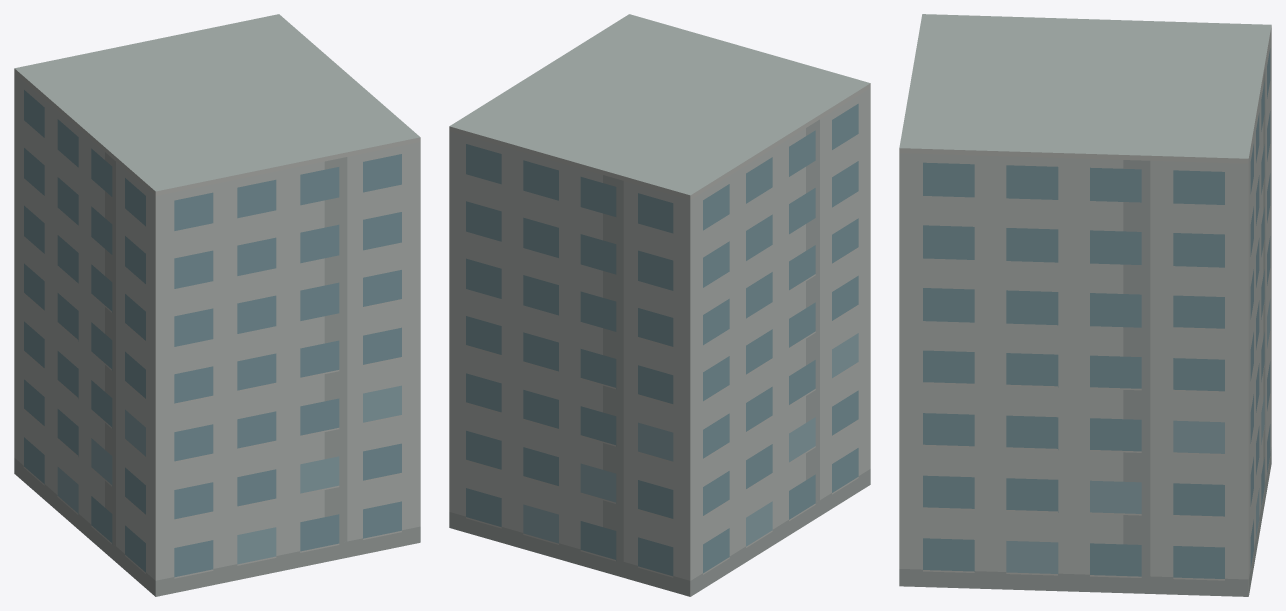
File: residential-d4f6537e-69c3-4ee8-936a-0a75219a1baa.glb
3 renders of one model, left to right at view 1: azimuth 30°, elevation 25°; view 2: azimuth 150°, elevation 25°; view 3: azimuth 270°, elevation 25°, orthographic. The views are drawn at different scales.
Parts seen in each view (by area): view 1: residential-d4f6537e-69c3-4ee8-936a-0a75219a1baa.tmp; view 2: residential-d4f6537e-69c3-4ee8-936a-0a75219a1baa.tmp; view 3: residential-d4f6537e-69c3-4ee8-936a-0a75219a1baa.tmp.
Boxes of the visible parts, x1=… form: residential-d4f6537e-69c3-4ee8-936a-0a75219a1baa.tmp: x1=14, y1=14, x2=420, y2=596; residential-d4f6537e-69c3-4ee8-936a-0a75219a1baa.tmp: x1=449, y1=14, x2=870, y2=596; residential-d4f6537e-69c3-4ee8-936a-0a75219a1baa.tmp: x1=899, y1=14, x2=1271, y2=596.
Size of the model in its own units: 15.14 by 21.35 by 16.45.
